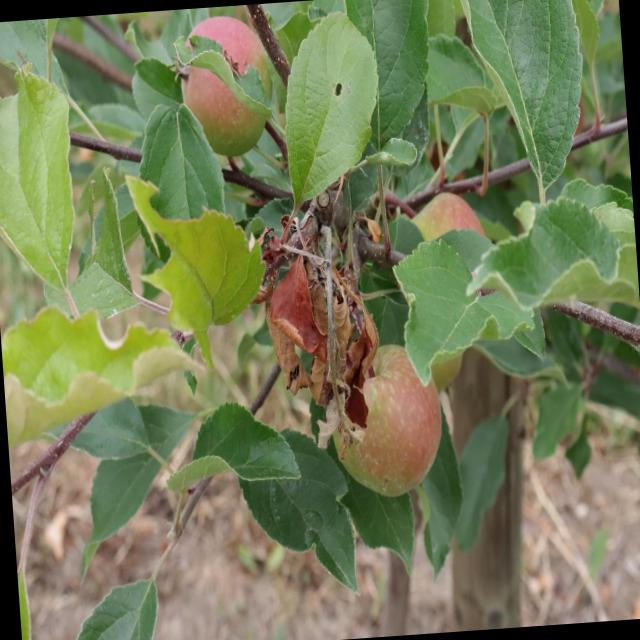-FireBlight-: (259, 215, 384, 455)
